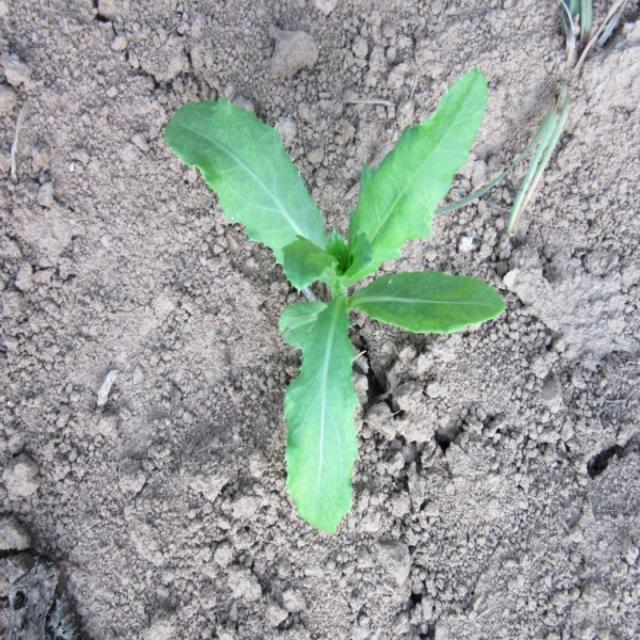cs: (162, 66, 511, 540)
